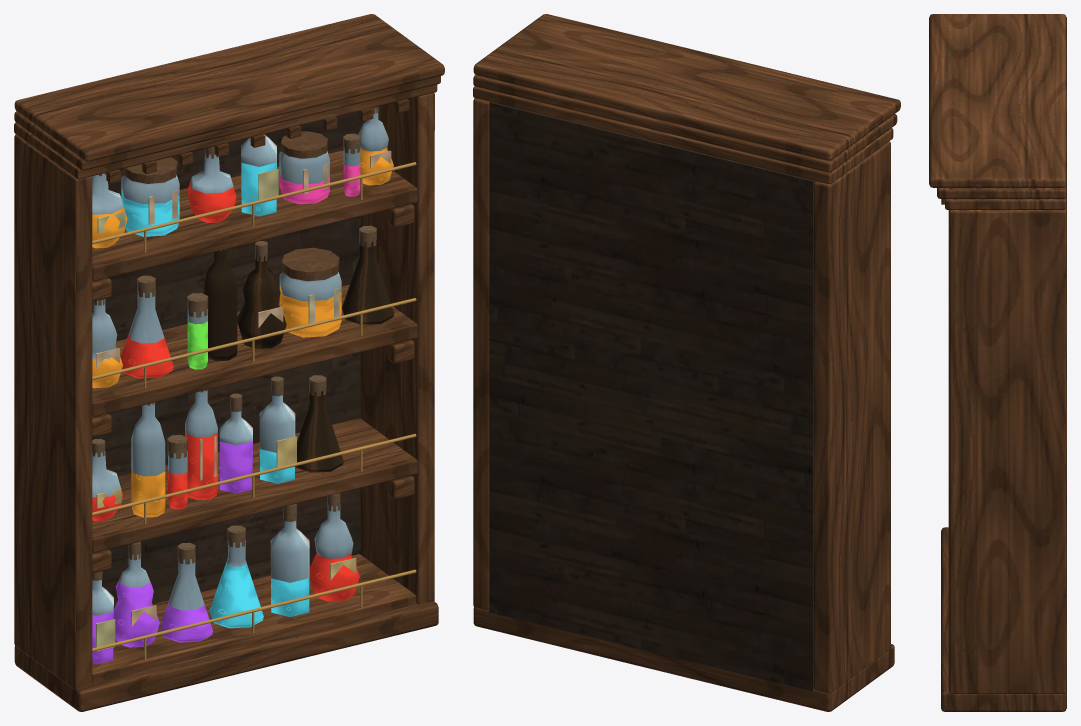
Rendered from prop_potionShelf.glb.
3 renders of one model, left to right at view 1: azimuth 30°, elevation 25°; view 2: azimuth 150°, elevation 25°; view 3: azimuth 270°, elevation 25°, orthographic. The views are drawn at different scales.
Parts seen in each view (by area): view 1: prop; view 2: prop; view 3: prop.
Part boxes in pixels (x1,y1,x2,y2): prop: (14, 14, 444, 711); prop: (473, 14, 900, 711); prop: (929, 14, 1066, 711).
Size of what is drawn, in the model's own units: 1 by 1.5 by 0.35.
Materials: 13 (13 with a texture image).
